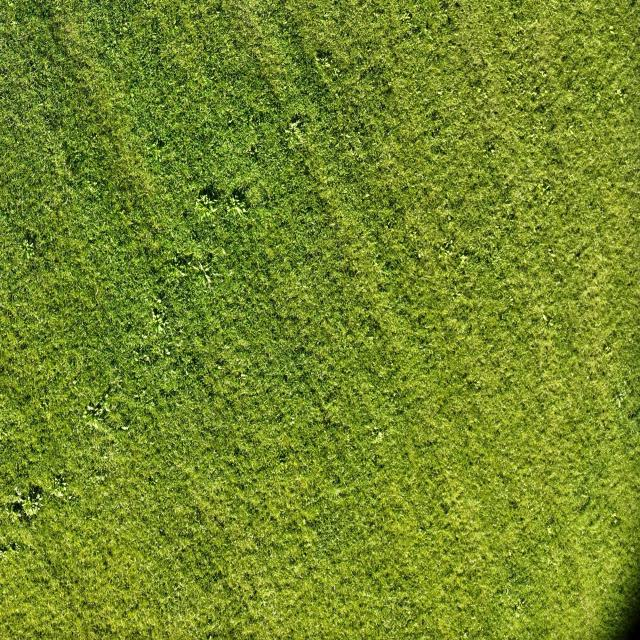rumex: (191, 188, 220, 225), (223, 190, 248, 221)
